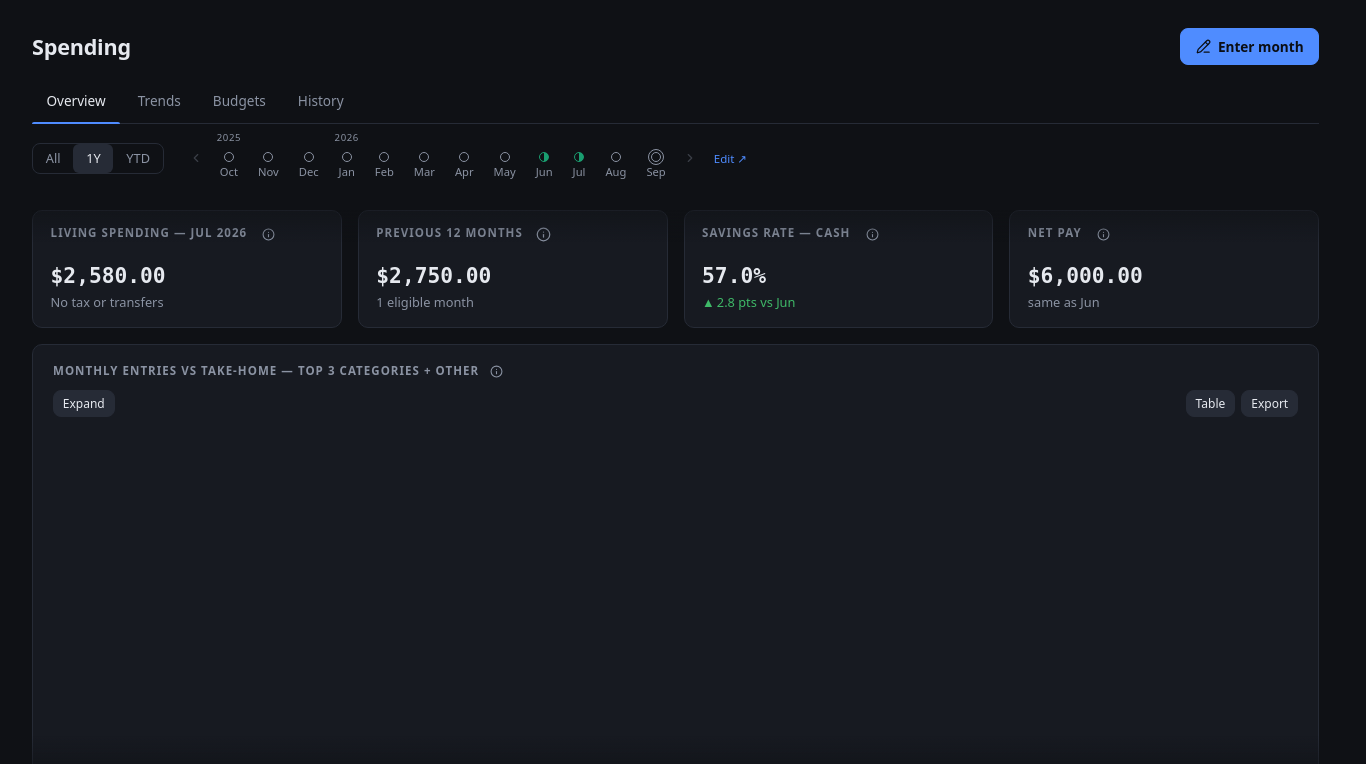
it: SpendingPage — the grammar mounts (charts C3) › F1: the heatmap opens on Row, switches modes, and hides dormant rows behind a toggle
Click the tab "History": click(321, 102) 283,81 -> 358,123
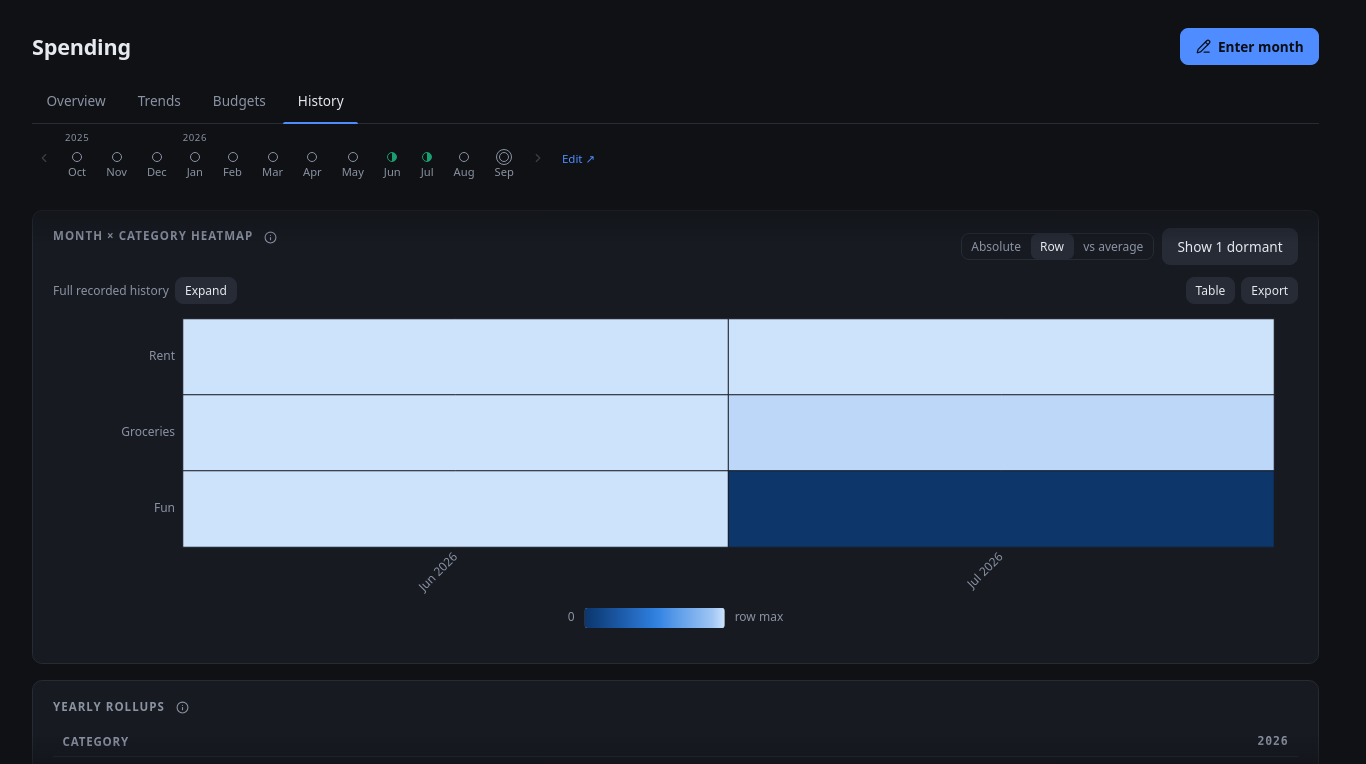
Result: the heading "Month × category heatmap" is shown at 53,228 -> 283,244
Click the button "vs average": click(1113, 247) 1074,234 -> 1153,259
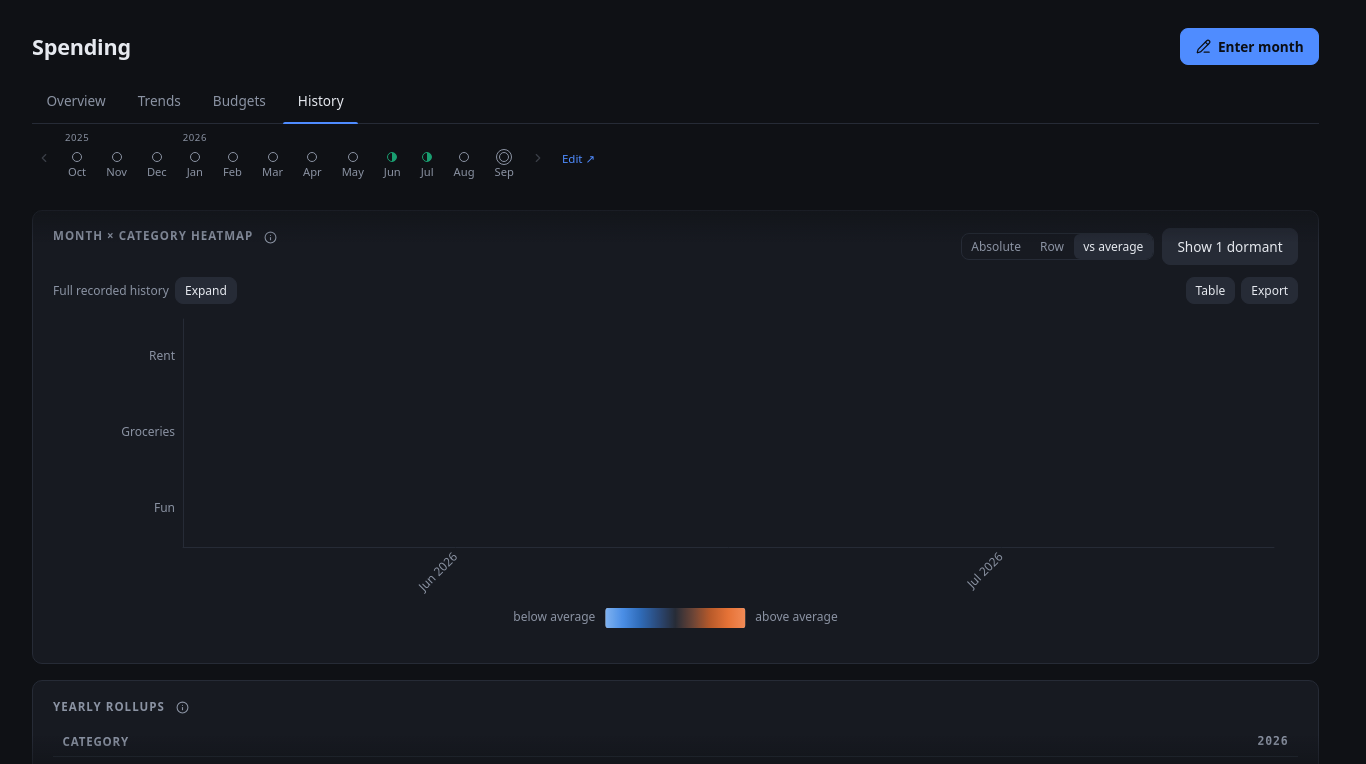
Result: the button "vs average" is pressed at 1074,234 -> 1153,259
Click the button "Show 1 dormant": click(1230, 247) 1162,228 -> 1298,265
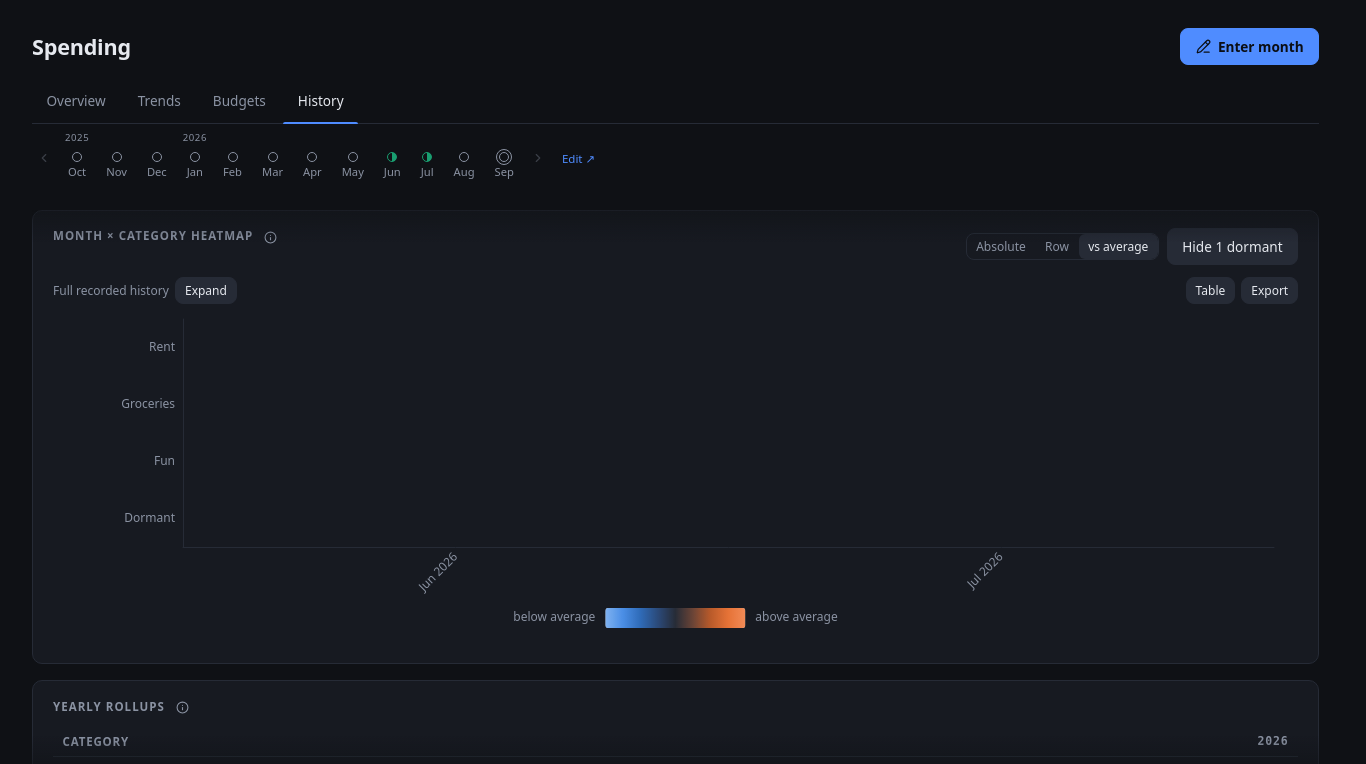
Result: the button "Hide 1 dormant" is shown at 1167,228 -> 1298,265
